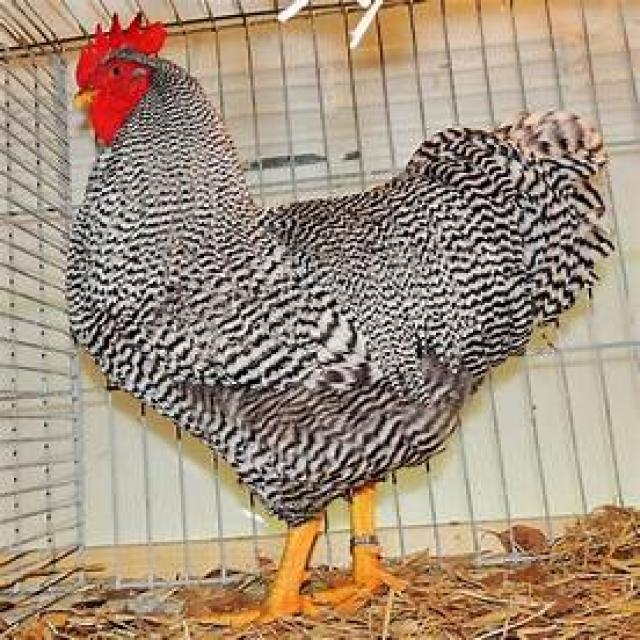animal: (61, 8, 614, 630)
